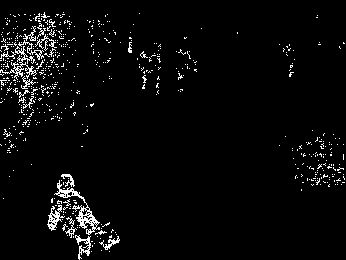person: (49, 171, 121, 260), (137, 51, 152, 89)
